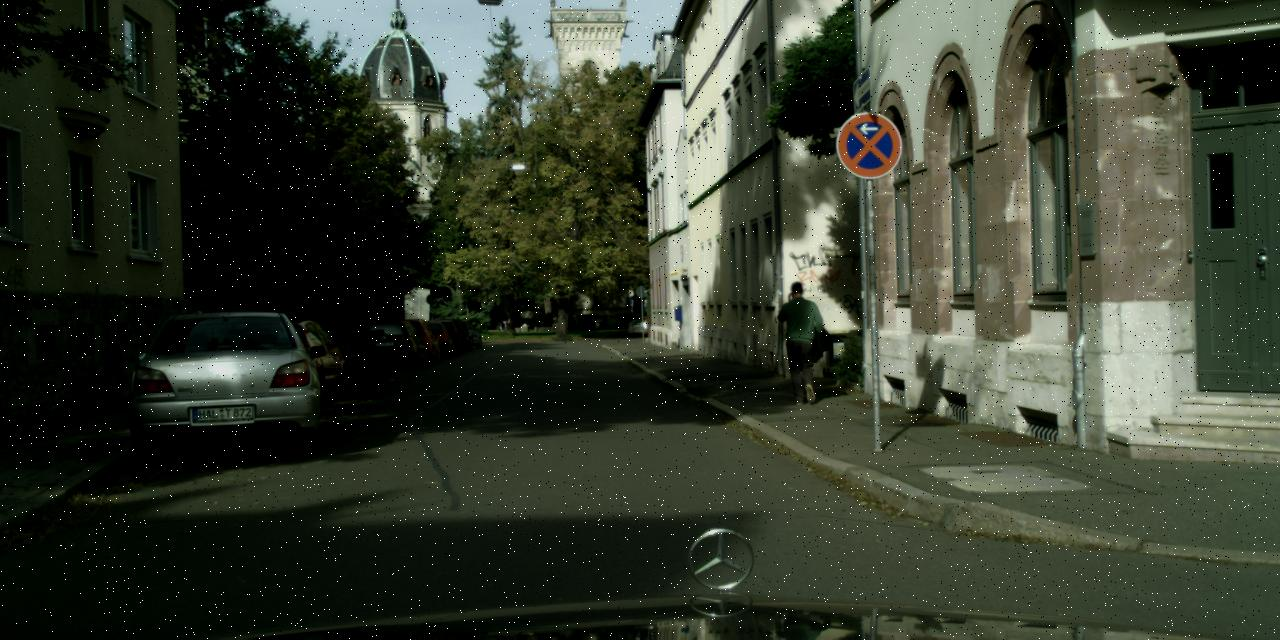ped: (777, 280, 826, 401)
